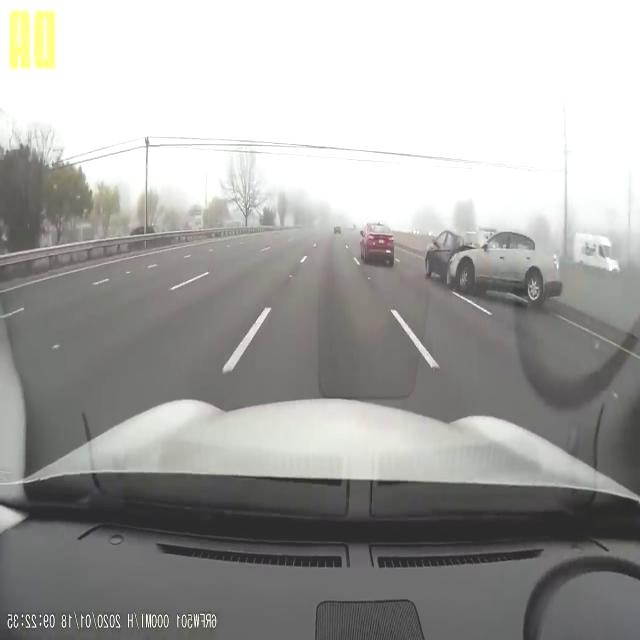accident: (423, 228, 565, 308)
